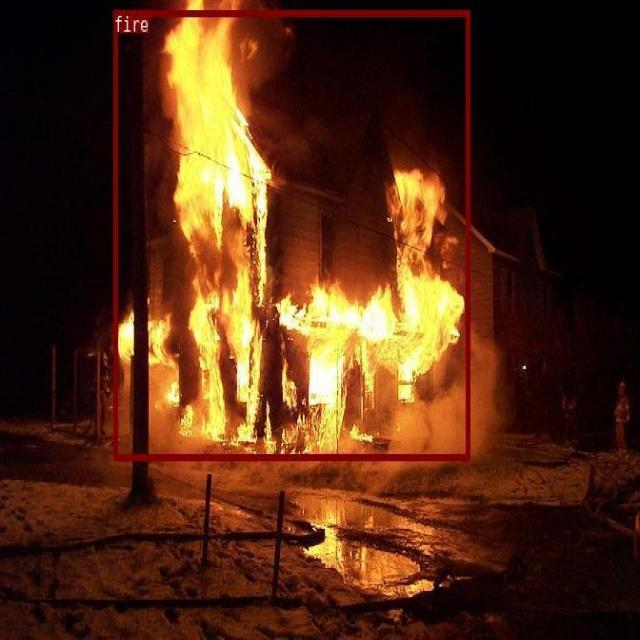fire: (113, 9, 469, 459)
